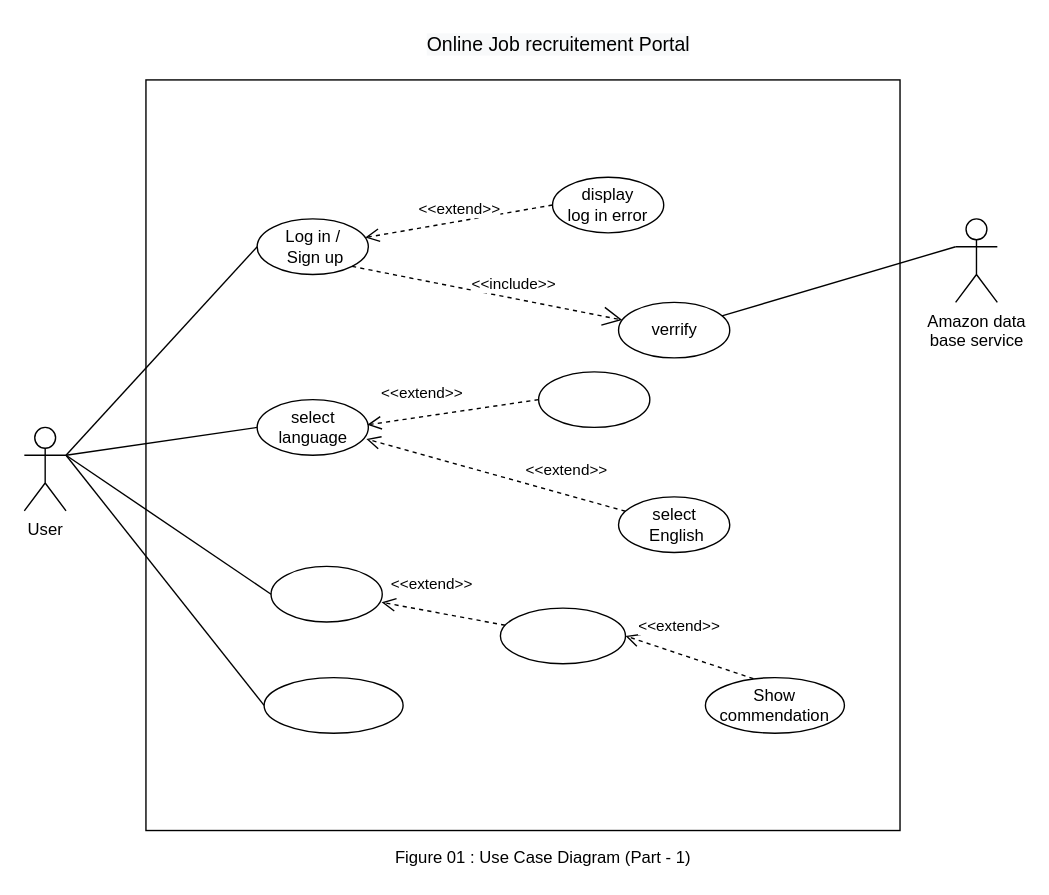
This 1049x895 diagram has some shape labels left out. The shapes that lost their labels are listed below. From the top down, each one's centre as x and y in pixels, then its label:
point 593,398: select Bangla
point 326,593: view profile
point 562,635: update profile
point 333,704: message other users
